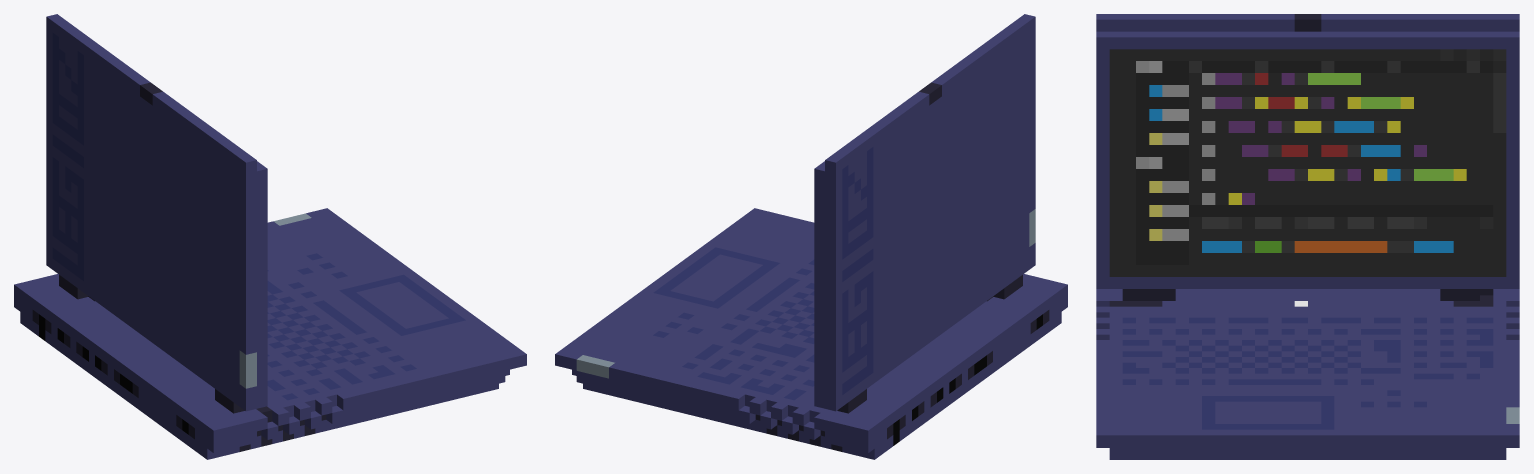
The picture shows the model from 3 angles, left to right: view 1: azimuth 30°, elevation 25°; view 2: azimuth 150°, elevation 25°; view 3: azimuth 270°, elevation 25°; orthographic projection. The views are drawn at different scales.
Bounding box in the file's own units: 29 × 26 × 32.
Materials: 1 (1 with a texture image).
